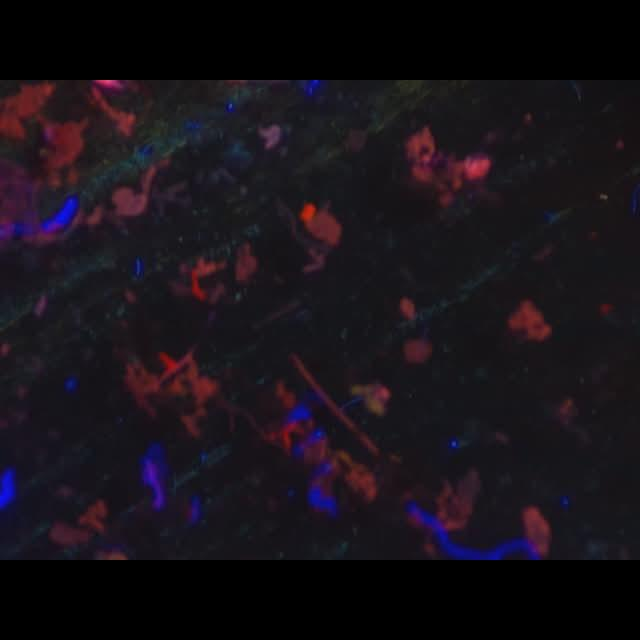Fragment: (509, 302, 551, 342)
